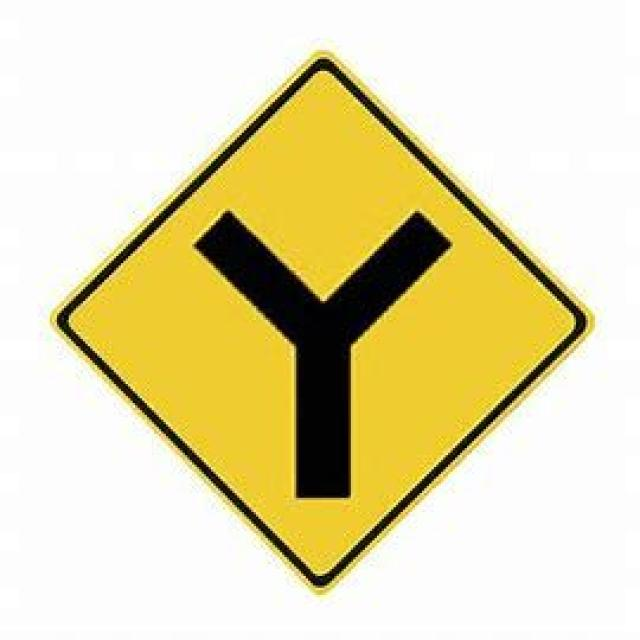Y_INTERSECTION: (42, 41, 622, 616)
